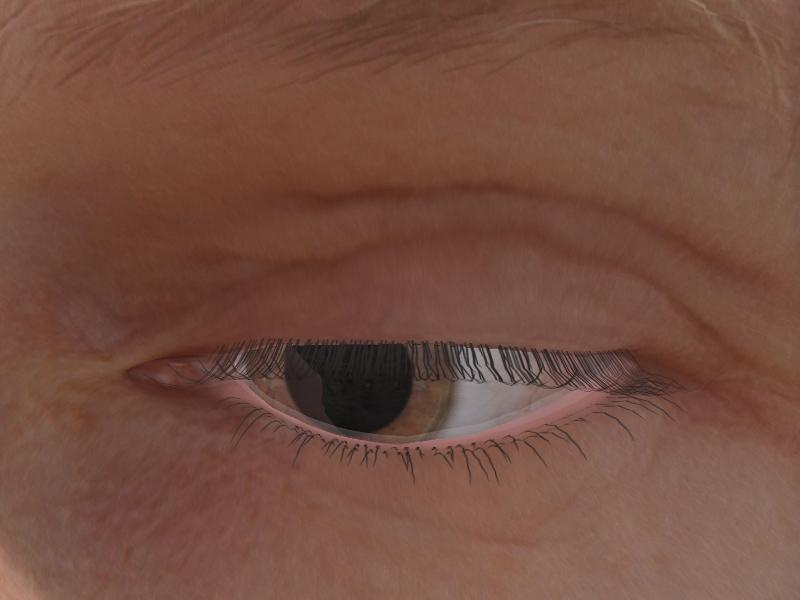eye: (245, 339, 458, 445)
